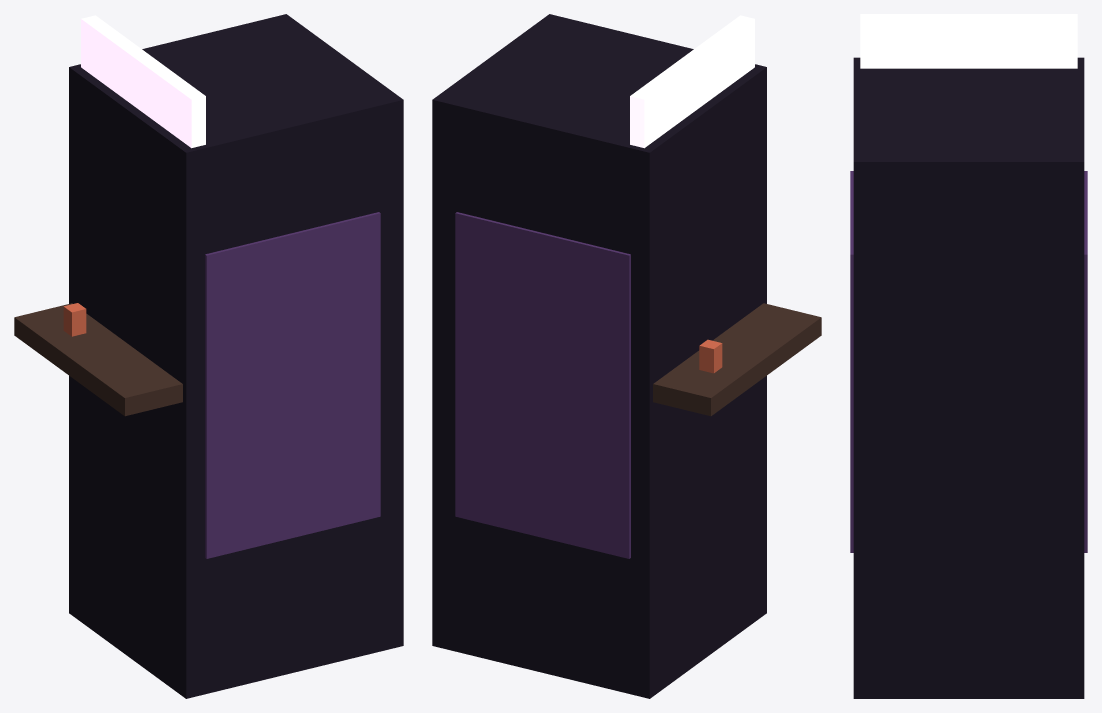
Rendered from wall_6.glb.
3 views of the same model, side by side, from view 1: azimuth 30°, elevation 25°; view 2: azimuth 150°, elevation 25°; view 3: azimuth 270°, elevation 25° (orthographic).
Visible parts, largest first — view 1: Box1, Box2, Box5, Box4, Box6; view 2: Box1, Box2, Box5, Box4, Box6; view 3: Box1, Box4, Box2.
Boxes of the visible parts, bbox=[...] form: Box1: bbox=[69, 14, 403, 698]; Box2: bbox=[205, 212, 380, 558]; Box5: bbox=[14, 303, 182, 416]; Box4: bbox=[81, 15, 205, 148]; Box6: bbox=[63, 303, 86, 336]; Box1: bbox=[432, 14, 766, 698]; Box2: bbox=[455, 212, 630, 558]; Box5: bbox=[653, 303, 821, 416]; Box4: bbox=[630, 15, 754, 148]; Box6: bbox=[699, 339, 722, 373]; Box1: bbox=[853, 57, 1084, 698]; Box4: bbox=[860, 14, 1077, 68]; Box2: bbox=[850, 171, 1087, 552].
Size of the model in its own units: 0.95 by 1.96 by 0.72.
